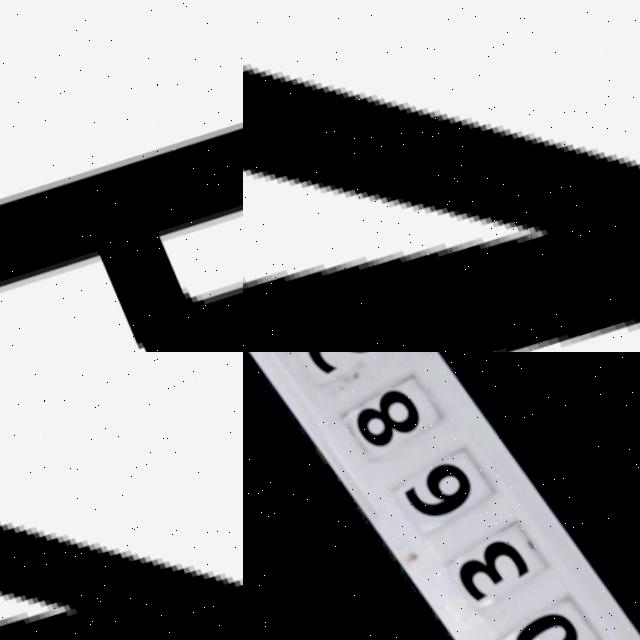0: (474, 587, 598, 640)
2: (270, 352, 394, 398)
3: (419, 518, 547, 625)
6: (372, 440, 493, 545)
8: (319, 368, 444, 474)
D: (0, 59, 243, 352)
V: (243, 0, 640, 352)
Y: (0, 352, 243, 640)
